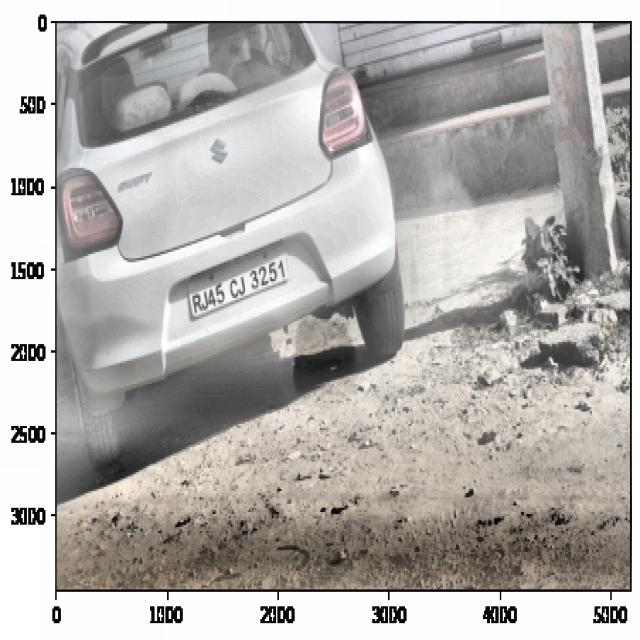license_plate: (190, 255, 291, 321)
